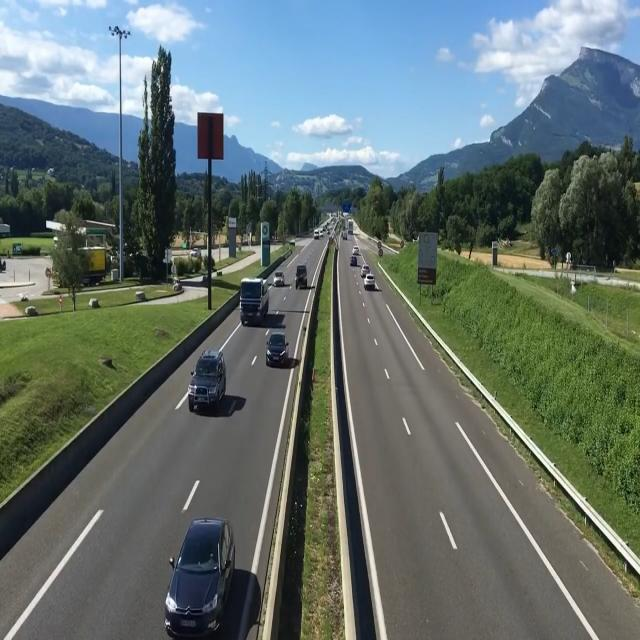car: (164, 516, 237, 634), (183, 344, 228, 419), (265, 331, 289, 372), (293, 263, 309, 294), (362, 274, 380, 295), (272, 268, 286, 293), (348, 254, 358, 268)
truck: (237, 273, 270, 327)
